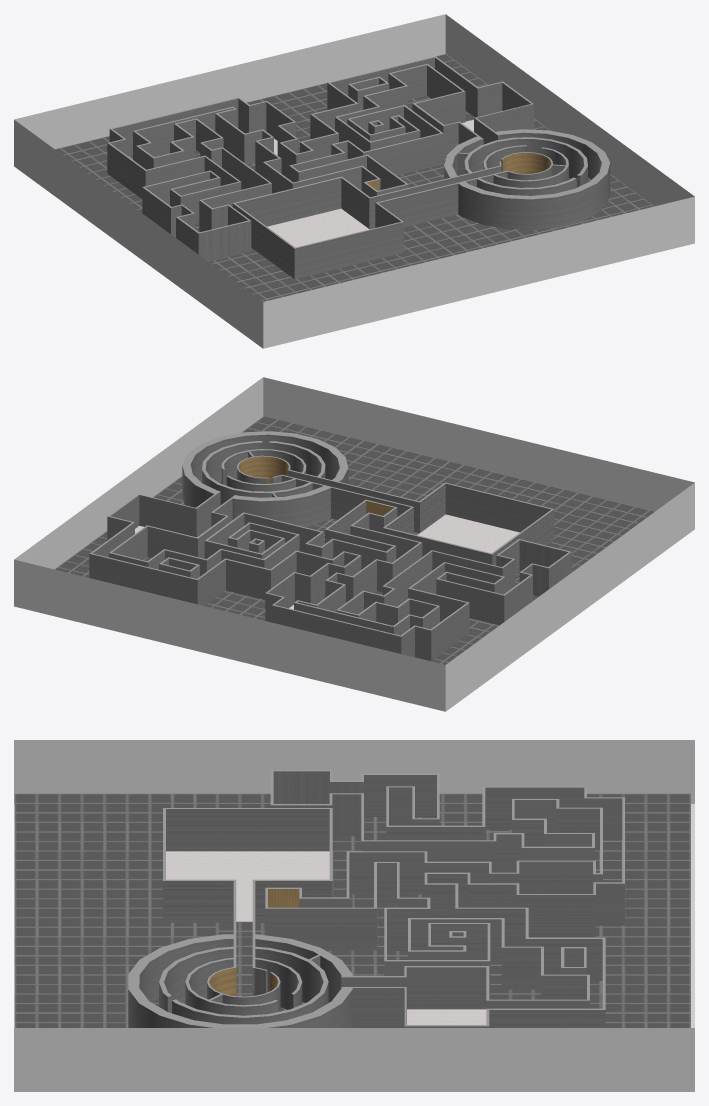
Rendered from mazeBottom.fbx.
3 renders of one model, top to bottom at view 1: azimuth 30°, elevation 25°; view 2: azimuth 150°, elevation 25°; view 3: azimuth 270°, elevation 25°, orthographic. The views are drawn at different scales.
Parts seen in each view (by area): view 1: polySurface324; view 2: polySurface324; view 3: polySurface324.
Part boxes in pixels (left/top/right/bottom): polySurface324: left=14, top=14, right=694, bottom=348; polySurface324: left=14, top=377, right=694, bottom=711; polySurface324: left=14, top=740, right=694, bottom=1091.
Bounding box in the file's own units: 51.84 × 5.38 × 51.84.
